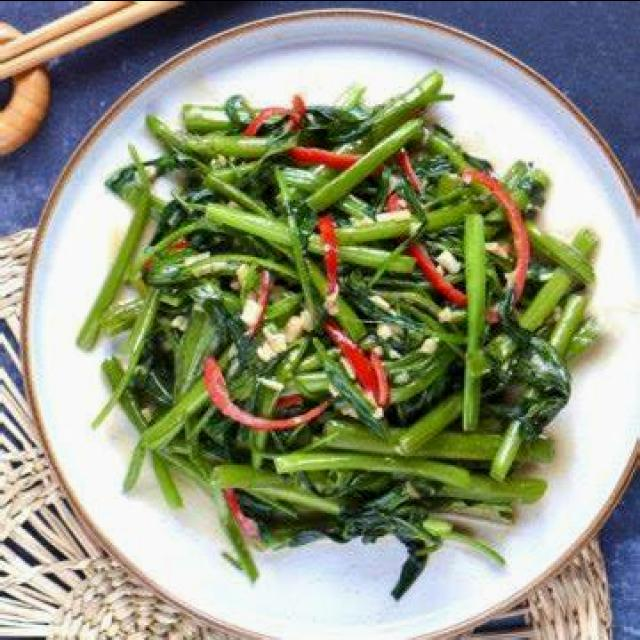tumis kangkung: (76, 69, 640, 629)
